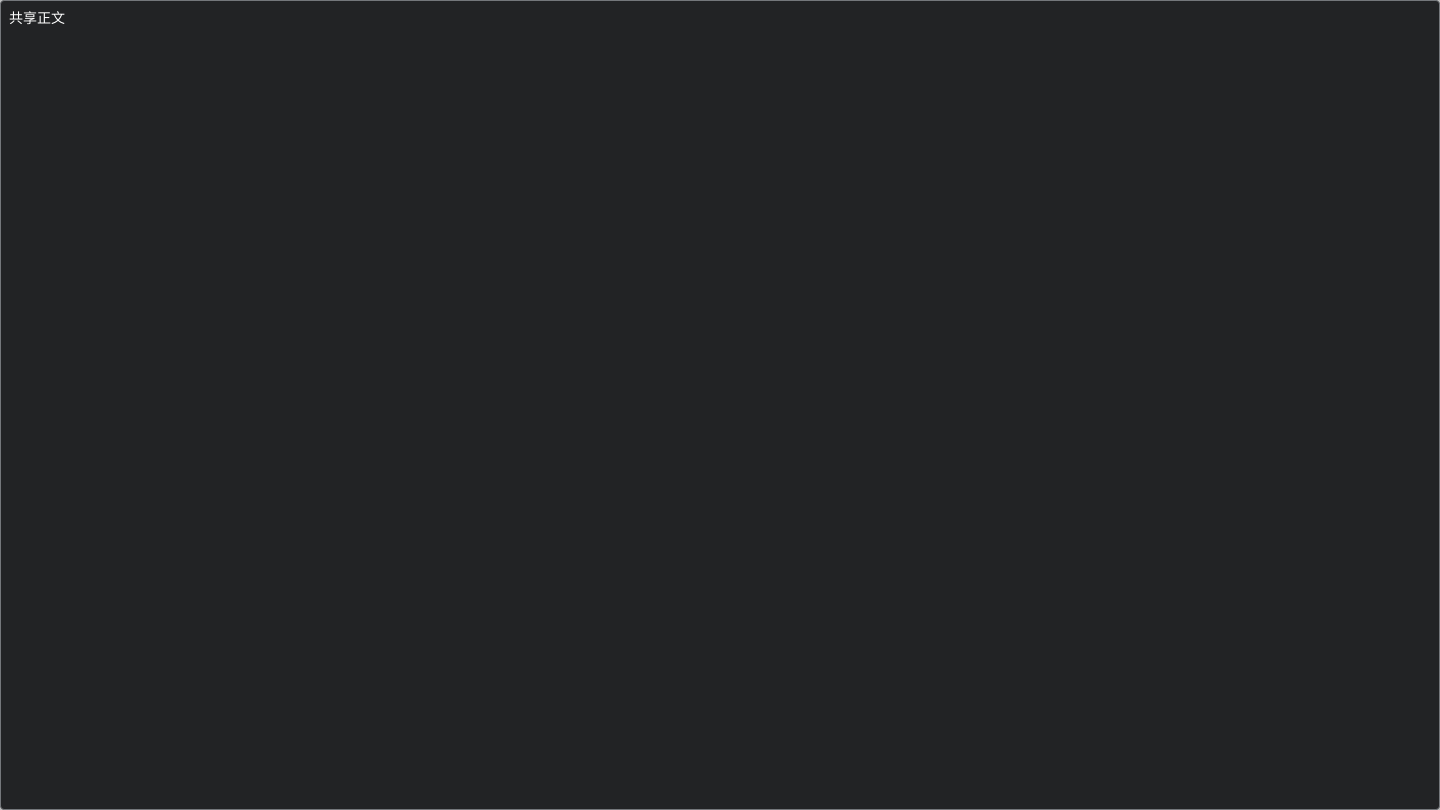
it: TextNode collaboration editing › releases once on blur or Escape and refuses a remotely locked edit
This screenshot has width=1440, height=810.
Later steps or results of the test are not shown.
Double-click the text "共享正文": (37, 18) [9,9,65,26]
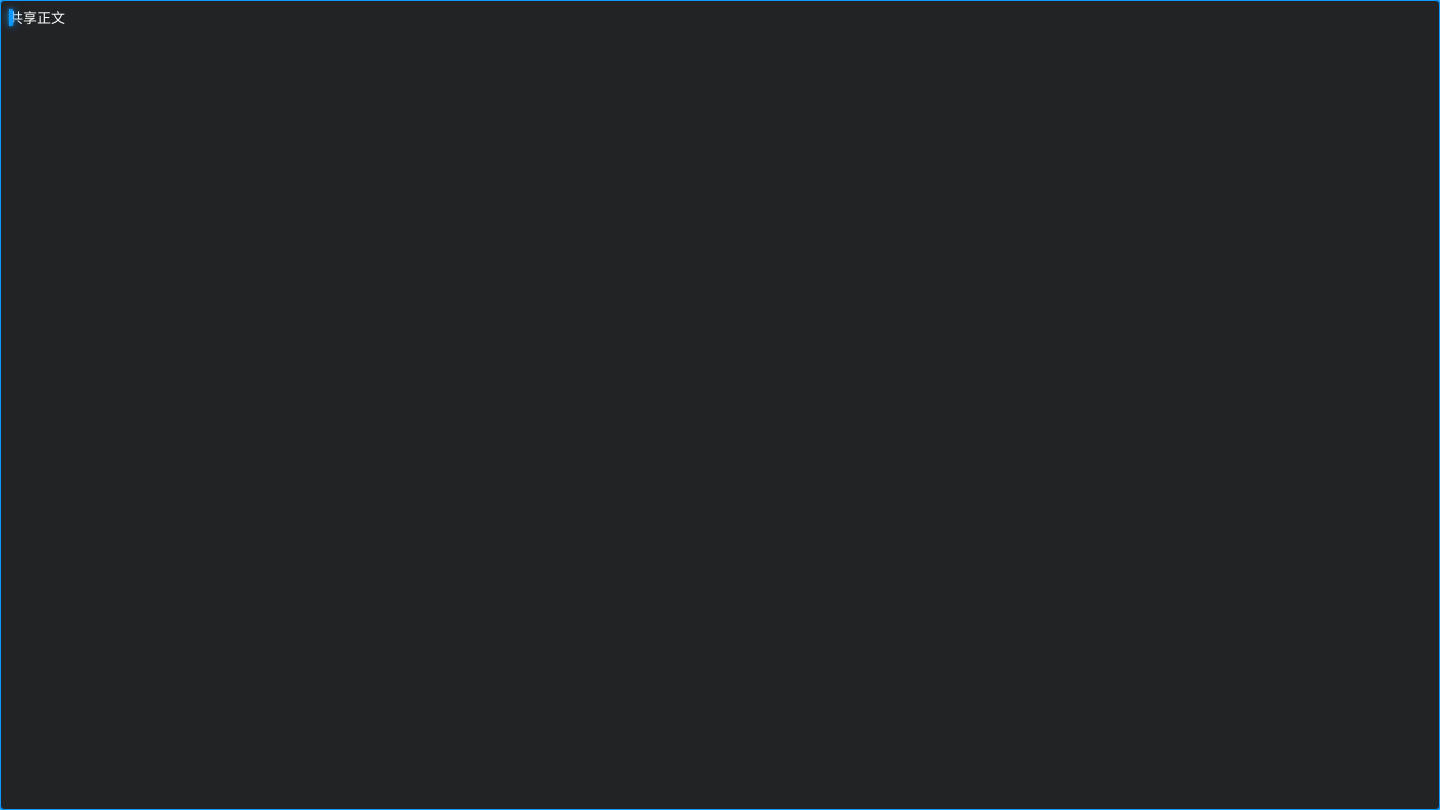
Press Escape in the text box named "文本节点内容"
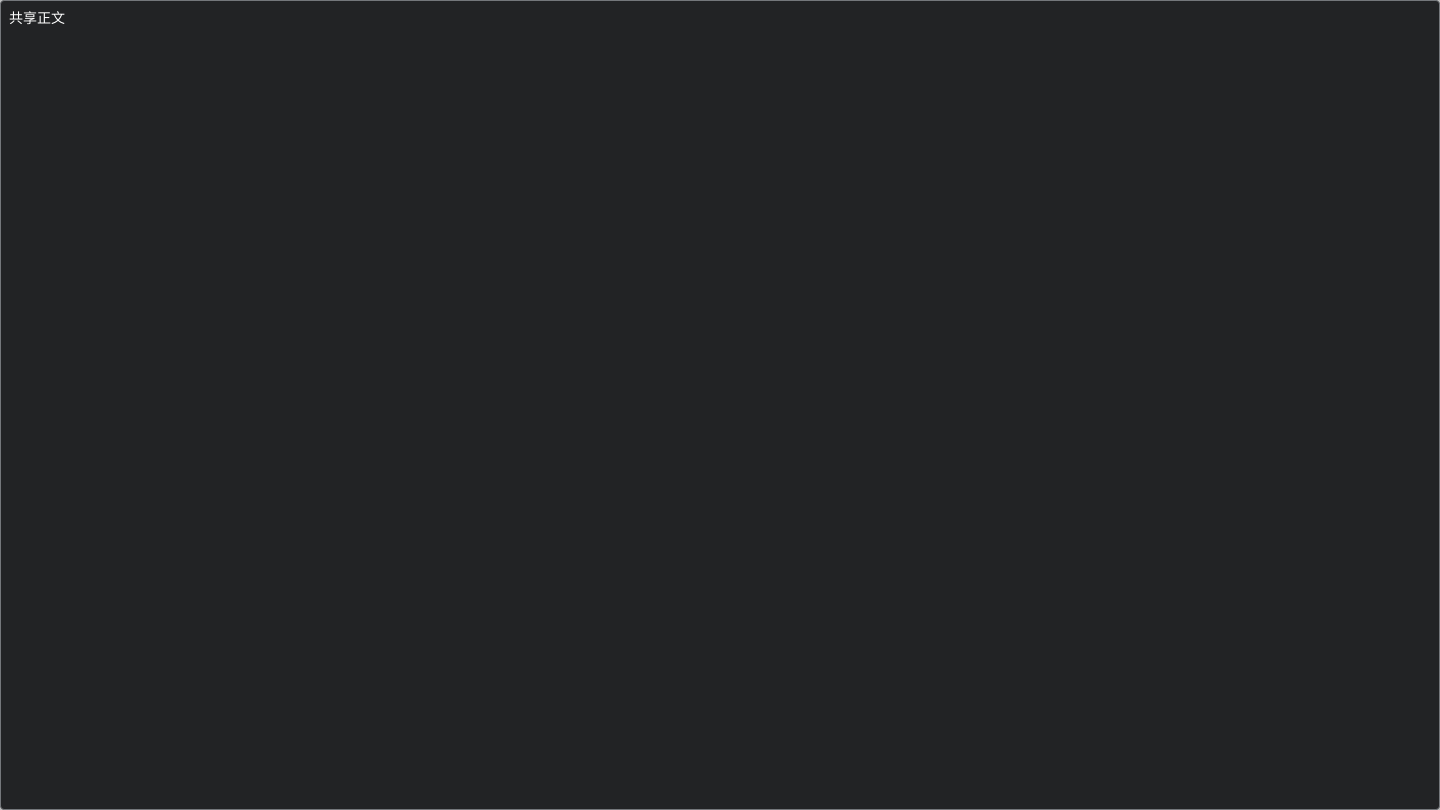
Expected: the text box labelled "文本节点内容" is gone
